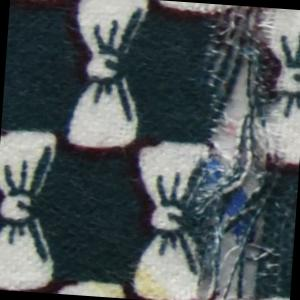Damage: (183, 4, 300, 300)
Stain: (85, 255, 176, 300)
